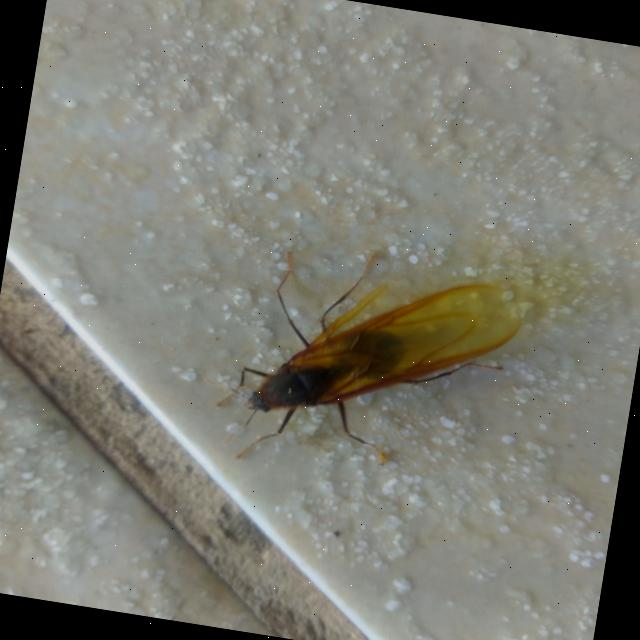Alive-Male-Alate: (211, 227, 526, 497)
